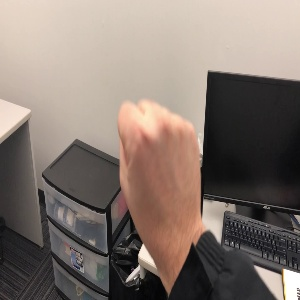hand: (118, 97, 201, 221)
